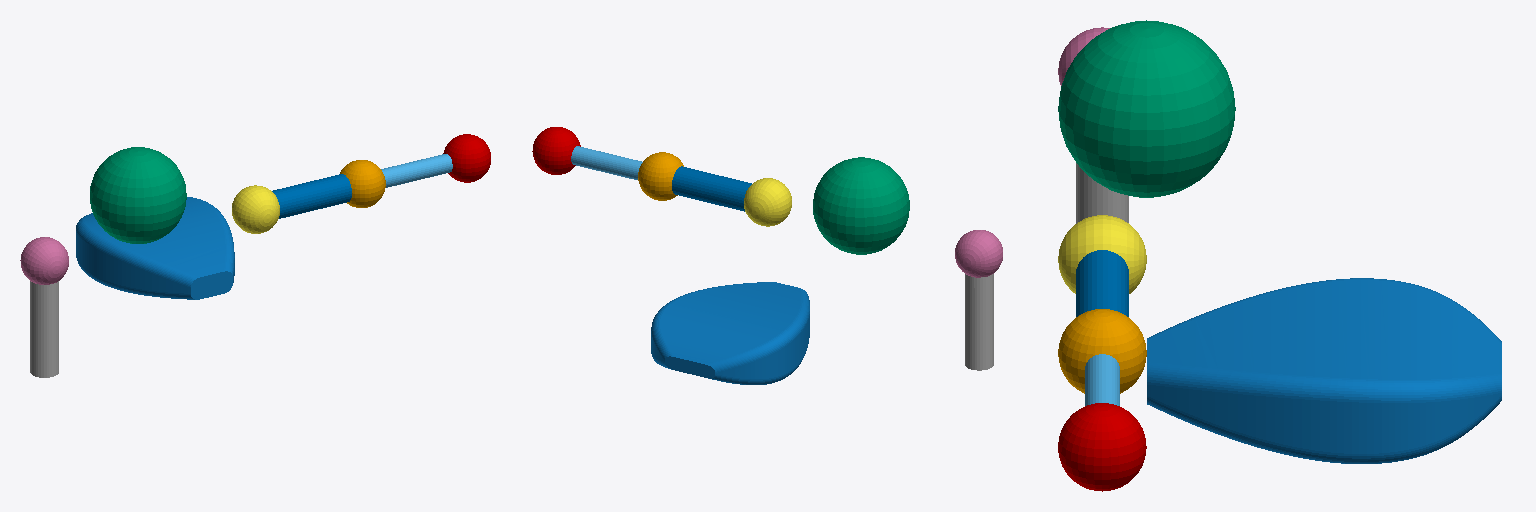
The robot description file, URDF, robot "upper_body":
<?xml version="1.0"?>
<robot name="upper_body">

     <material name="red">
    <color rgba="0.8 0.0 0.0 0.5 "/>
  </material>
  <material name="green">
    <color rgba="0.0 0.8 0.0 0.5 "/>
  </material>


	<!-- Base Frame of Car -->
	<!-- <link name="body_link">
		<visual>
			<geometry>
				<box size="0.5 0.1 0.5"/>
			</geometry>
		</visual>
	</link> -->

	<link name="human_base"/>	


	<!-- <link name="body_link">
		<visual>
			<box size="0.5 0.1 0.5"/>
		</visual>
	</link> -->

	<link name="body_link">
	    <visual>
	      <origin rpy="0 0 0" xyz="0 0 0" />
	      <geometry>
	        <mesh filename="spine.STL" />
	      </geometry>
	      <material name="">
	        <color rgba="0.086 0.506 0.767 1" />
	      </material>
	    </visual>
	</link>

	<joint name="base_body_joint" type="fixed">
		<parent link="human_base"/>
		<child link="body_link"/>
		<origin rpy="0.0 0.0 0.0" xyz="0.0 0 0"/>
	</joint>



<!-- HEAD  -->
	<link name="head_link">
		<visual>
			<geometry>
				<sphere radius="0.10"/>
			</geometry>
		</visual>
	</link>

	<joint name="fix_head_joint" type="fixed">
		<parent link="body_link"/>
		<child link="head_link"/>
		<origin rpy="0.0 0.0 0.0" xyz="0.0 0 0.32"/>
	</joint>

<!-- LEFT ARM -->

	<link name="left_shoulder">
		<visual>
			<geometry>
				<sphere radius="0.05"/>
			</geometry>
		</visual>
	</link>

	<joint name="left_fix_shoulder_joint" type="fixed">
		<parent link="body_link"/>
		<child link="left_shoulder"/>
		<origin rpy="1.57 0 0.0" xyz="0.25 -0.05 0.25"/>
	</joint>

	<link name="left_upper_arm">
		<visual>
			<geometry>
				<cylinder length="0.25" radius="0.03"/>
			</geometry>
		</visual>
	</link>


	<joint name="LShoulderX" type="continuous" >
	    <parent link="left_shoulder" />
	    <child link="left_shoulder_psi_link" />
	    <axis xyz="1 0 0" />
	    <dynamics damping="0.005" />
	</joint>

	<link name="left_shoulder_psi_link" />

	<joint name="LShoulderY" type="continuous" >
	    <parent link="left_shoulder_psi_link"/>
	    <child link="left_shoulder_theta_link"/>
	    <axis xyz="0 1 0" />
	    <dynamics damping="0.005" />
	</joint>

	<link name="left_shoulder_theta_link" />

	<joint name="LShoulderZ" type="continuous" >
	    <parent link="left_shoulder_theta_link"/>
	    <child link="left_shoulder3"/>
	    <axis xyz="0 0 1" />
	    <dynamics damping="0.005" />
	</joint>

	<link name="left_shoulder3"/>
	<joint name="left_should_fixed3" type="fixed" >
	    <parent link="left_shoulder3"/>
	    <child link="left_upper_arm"/>
	    <origin rpy="0 1.57 0" xyz="0.125 0 0.0"/>
	    <dynamics damping="0.005" />
	</joint>


<!--  -->

	<link name="left_elbow">
		<visual>
			<geometry>
				<sphere radius="0.05"/>
			</geometry>
		</visual>
	</link>

	<joint name="left_fix_elbow_joint" type="fixed">
		<parent link="left_upper_arm"/>
		<child link="left_elbow"/>
		<origin rpy="1.57 0 3.14" xyz="0 0.0 0.125"/>
	</joint>


	<link name="left_lower_arm">
		<visual>
			<geometry>
				<cylinder length="0.25" radius="0.02"/>
			</geometry>
		</visual>
	</link>

	<joint name="LElbowX" type="continuous" >
	    <parent link="left_elbow" />
	    <child link="left_elbow_psi_link" />
	    <axis xyz="1 0 0" />
	    <dynamics damping="0.005" />
	</joint>

	<link name="left_elbow_psi_link" />

	<joint name="LElbowY" type="continuous" >
	    <parent link="left_elbow_psi_link"/>
	    <child link="left_elbow_theta_link"/>
	    <axis xyz="0 1 0" />
	    <dynamics damping="0.005" />
	</joint>

	<link name="left_elbow_theta_link" />

	<joint name="LElbowZ" type="continuous" >
	    <parent link="left_elbow_theta_link"/>
	    <child link="left_elbow3"/>
	    <axis xyz="0 0 1" />
	    <dynamics damping="0.005" />
	</joint>


	<link name="left_elbow3"/>
	<joint name="left_elbow_fixed3" type="fixed" >
	    <parent link="left_elbow3"/>
	    <child link="left_lower_arm"/>
	    <origin rpy="1.57 0 0.0" xyz="0 0.125 0"/>
	    <dynamics damping="0.005" />
	</joint>


	<link name="left_hand">
		<visual>
			<geometry>
				<sphere radius="0.05"/>
			</geometry>
		<material name="red"/>
		</visual>
	</link>
	<joint name="left_hand_fixed" type="fixed" >
	    <parent link="left_lower_arm"/>
	    <child link="left_hand"/>
	    <origin rpy="-1.57 0 0.0" xyz="0 0 -0.125"/>
	    <dynamics damping="0.005" />
	</joint>




<!-- RIGHT ARM -->

	<link name="right_shoulder">
		<visual>
			<geometry>
				<sphere radius="0.05"/>
			</geometry>
		</visual>
	</link>

	<joint name="right_fix_shoulder_joint" type="fixed">
		<parent link="body_link"/>
		<child link="right_shoulder"/>
		<origin rpy="1.57 -1.57 0.0" xyz="-0.25 -0.05 0.25"/>
	</joint>

	<link name="right_upper_arm">
		<visual>
			<geometry>
				<cylinder length="0.25" radius="0.03"/>
			</geometry>
		</visual>
	</link>


	<joint name="RShoulderX" type="continuous" >
	    <parent link="right_shoulder" />
	    <child link="right_shoulder_psi_link" />
	    <axis xyz="1 0 0" />
	    <dynamics damping="0.005" />
	</joint>

	<link name="right_shoulder_psi_link" />

	<joint name="RShoulderY" type="continuous" >
	    <parent link="right_shoulder_psi_link"/>
	    <child link="right_shoulder_theta_link"/>
	    <axis xyz="0 1 0" />
	    <dynamics damping="0.005" />
	</joint>

	<link name="right_shoulder_theta_link" />

	<joint name="RShoulderZ" type="continuous" >
	    <parent link="right_shoulder_theta_link"/>
	    <child link="right_shoulder3"/>
	    <axis xyz="0 0 1" />
	    <dynamics damping="0.005" />
	</joint>

	<link name="right_shoulder3"/>
	<joint name="right_should_fixed3" type="fixed" >
	    <parent link="right_shoulder3"/>
	    <child link="right_upper_arm"/>
	    <origin rpy="0 1.57 0" xyz="-0.125 0 0.0"/>
	    <dynamics damping="0.005" />
	</joint>


<!--  -->

<!-- 	<link name="right_elbow">
		<visual>
			<geometry>
				<sphere radius="0.05"/>
			</geometry>
		</visual>
	</link>

	<joint name="right_fix_elbow_joint" type="fixed">
		<parent link="right_upper_arm"/>
		<child link="right_elbow"/>
		<origin rpy="0.0 -1.57 0.0" xyz="0 0.0 -0.125"/>
	</joint>


	<link name="right_lower_arm">
		<visual>
			<geometry>
				<cylinder length="0.25" radius="0.02"/>
			</geometry>
		</visual>
	</link>

	<joint name="RElbowX" type="continuous" >
	    <parent link="right_elbow" />
	    <child link="right_elbow_psi_link" />
	    <axis xyz="1 0 0" />
	    <dynamics damping="0.005" />
	</joint>

	<link name="right_elbow_psi_link" />

	<joint name="RElbowY" type="continuous" >
	    <parent link="right_elbow_psi_link"/>
	    <child link="right_elbow_theta_link"/>
	    <axis xyz="0 1 0" />
	    <dynamics damping="0.005" />
	</joint>

	<link name="right_elbow_theta_link" />

	<joint name="RElbowZ" type="continuous" >
	    <parent link="right_elbow_theta_link"/>
	    <child link="right_elbow3"/>
	    <axis xyz="0 0 1" />
	    <dynamics damping="0.005" />
	</joint>


	<link name="right_elbow3"/>
	<joint name="right_elbow_fixed3" type="fixed" >
	    <parent link="right_elbow3"/>
	    <child link="right_lower_arm"/>
	    <origin rpy="0 1.57 0.0" xyz="-0.125 0 0"/>
	    <dynamics damping="0.005" />
	</joint>


	<link name="right_hand">
		<visual>
			<geometry>
				<sphere radius="0.05"/>
			</geometry>
		<material name="green"/>
		</visual>
	</link>
	<joint name="right_hand_fixed" type="fixed" >
	    <parent link="right_lower_arm"/>
	    <child link="right_hand"/>
	    <origin rpy="0 -1.57 0.0" xyz="0 0 -0.125"/>
	    <dynamics damping="0.005" />
	</joint>
 -->




</robot>

--- Facts derived from the render (not from the file) ---
The picture shows the robot from 3 angles, left to right: view 1: azimuth 30°, elevation 25°; view 2: azimuth 150°, elevation 25°; view 3: azimuth 270°, elevation 25°; orthographic projection.
Robot: upper_body — 19 links, 18 joints (9 continuous, 9 fixed); root link human_base; default pose: every joint at zero.
Visible links, largest first — view 1: body_link, head_link, right_upper_arm, left_upper_arm, left_shoulder, right_shoulder, left_hand, left_elbow, left_lower_arm; view 2: body_link, head_link, right_upper_arm, left_upper_arm, left_shoulder, right_shoulder, left_hand, left_elbow, left_lower_arm; view 3: body_link, head_link, left_hand, left_elbow, left_shoulder, left_upper_arm, right_upper_arm, left_lower_arm, right_shoulder.
Link boxes in pixels (x1,y1,x2,y2): body_link: (76,197,234,299); head_link: (90,147,186,243); right_upper_arm: (30,281,58,377); left_upper_arm: (272,174,351,218); left_shoulder: (232,185,279,233); right_shoulder: (20,237,68,284); left_hand: (443,134,490,182); left_elbow: (340,160,385,207); left_lower_arm: (381,154,452,187); body_link: (651,282,809,384); head_link: (813,157,909,254); right_upper_arm: (965,274,993,370); left_upper_arm: (672,166,751,211); left_shoulder: (744,178,791,226); right_shoulder: (955,230,1002,277); left_hand: (532,127,580,174); left_elbow: (638,152,683,200); left_lower_arm: (571,146,642,179); body_link: (1147,278,1501,463); head_link: (1058,20,1235,197); left_hand: (1058,403,1146,491); left_elbow: (1058,309,1146,393); left_shoulder: (1058,215,1146,293); left_upper_arm: (1076,250,1128,316); right_upper_arm: (1076,163,1128,223); left_lower_arm: (1085,354,1119,405); right_shoulder: (1058,27,1109,85).
Size in the robot's own frame: 1.1 by 0.5003 by 0.42 metres.
1 mesh visuals loaded from 1 distinct referenced files (1 binary STL).